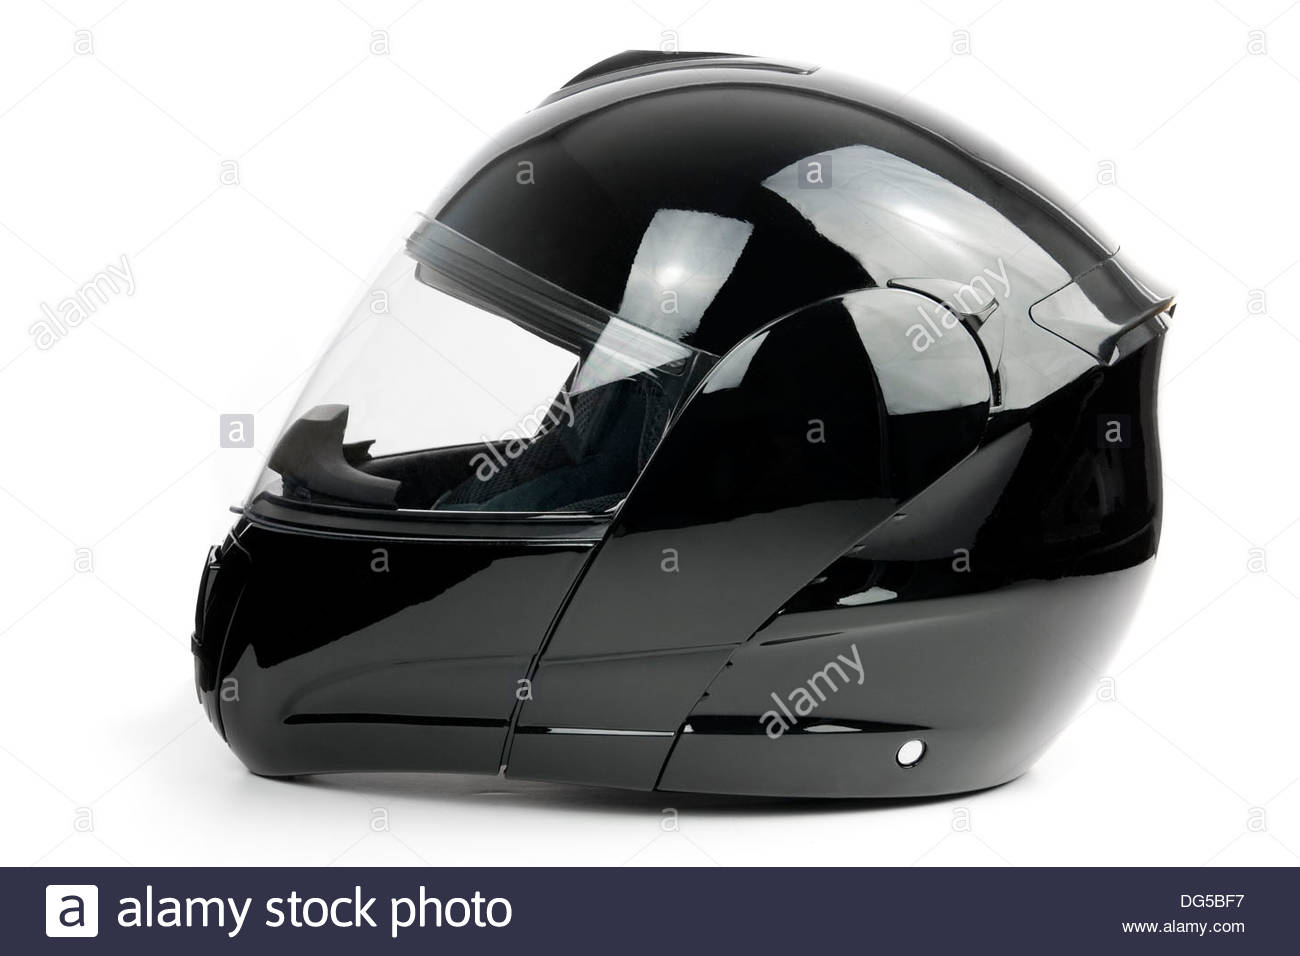with_helmet: (184, 42, 1189, 825)
